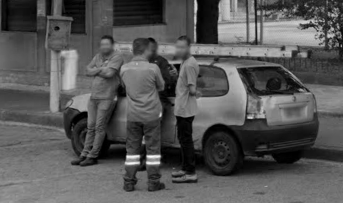car: (64, 59, 319, 175)
